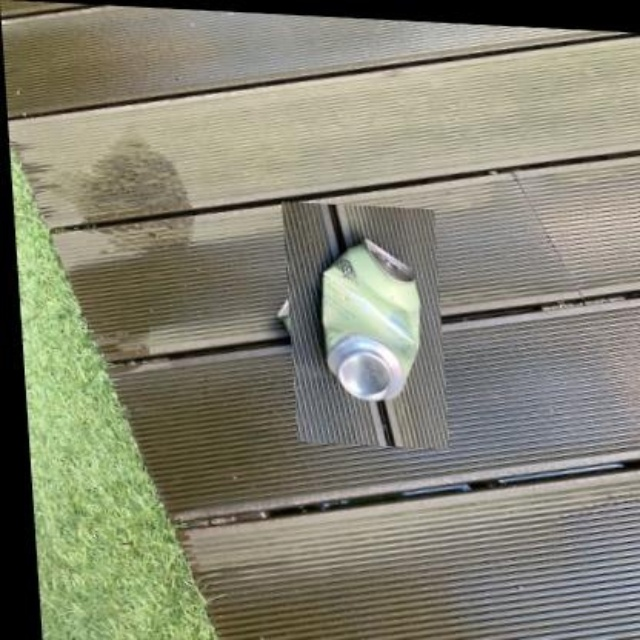trash: (323, 238, 418, 400)
